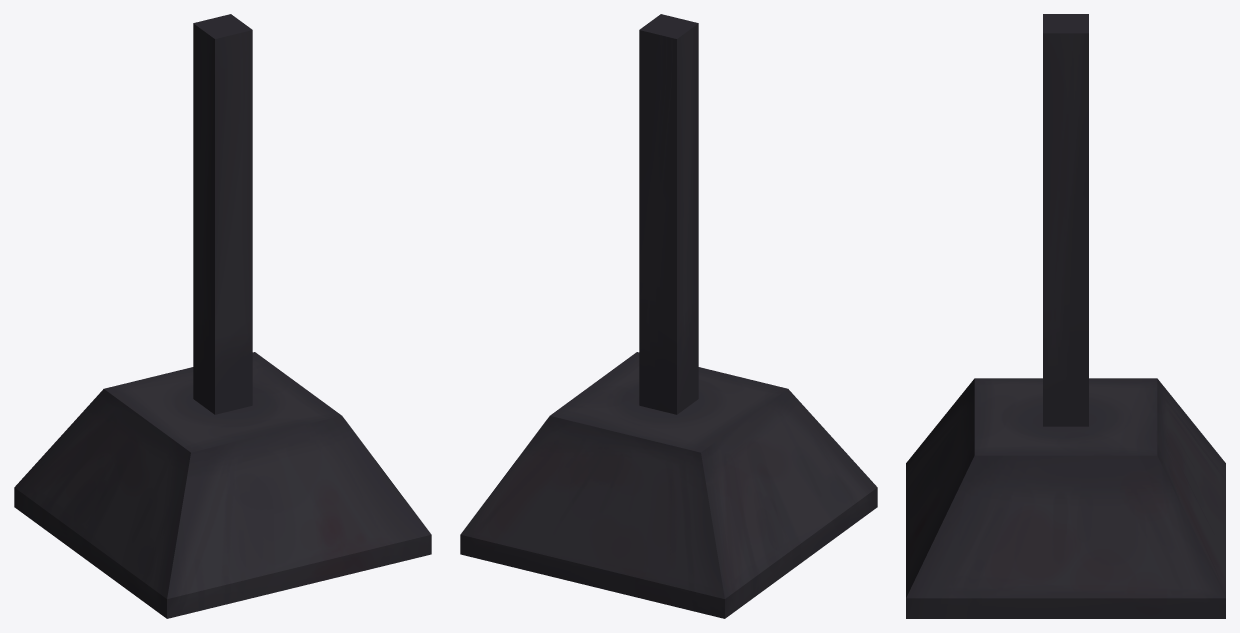
The model's file is Lamp.fbx.
The picture shows the model from 3 angles, left to right: view 1: azimuth 30°, elevation 25°; view 2: azimuth 150°, elevation 25°; view 3: azimuth 270°, elevation 25°; orthographic projection. The views are drawn at different scales.
Parts seen in each view (by area): view 1: Cube; view 2: Cube; view 3: Cube.
Boxes of the visible parts, left/top/right/bottom form: Cube: left=14, top=14, right=431, bottom=618; Cube: left=460, top=14, right=877, bottom=618; Cube: left=906, top=14, right=1225, bottom=618.
Size of the model in its own units: 1.4 by 2.7 by 1.4.
